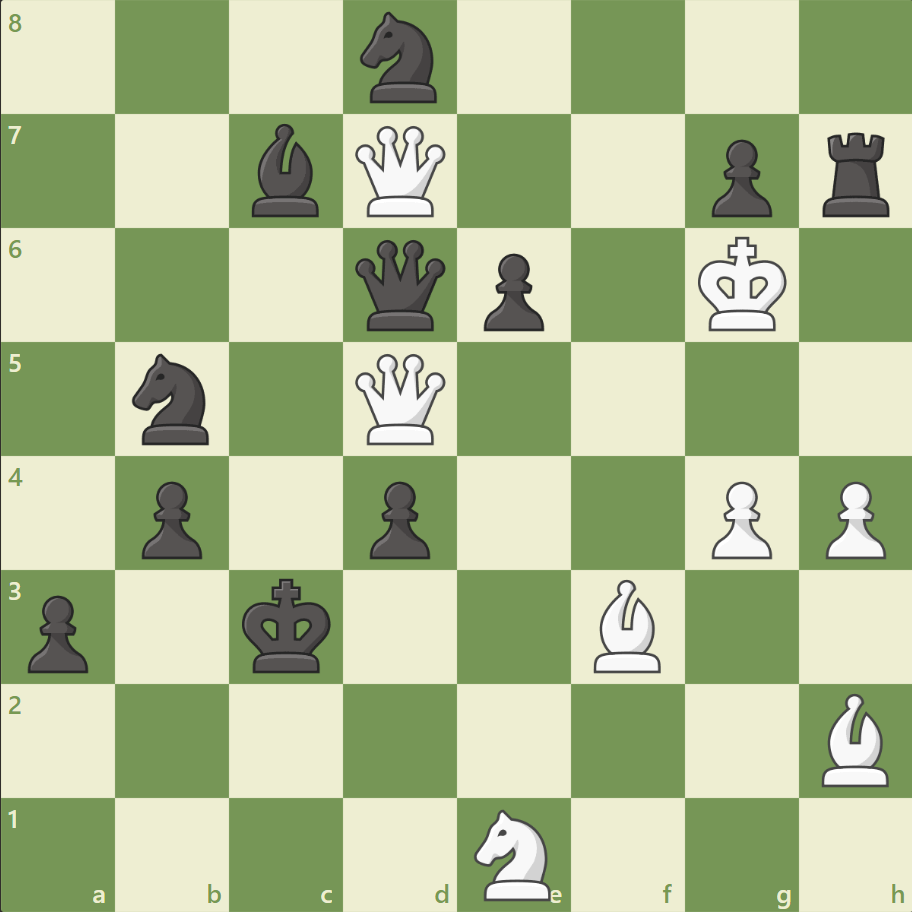B: (812, 687, 896, 790), (585, 574, 669, 676)
K: (692, 231, 792, 339)
N: (465, 802, 562, 904)
P: (701, 473, 776, 564), (815, 473, 889, 564)
Q: (351, 122, 450, 222), (351, 349, 450, 449)
b: (244, 120, 328, 222)
k: (238, 571, 338, 679)
n: (351, 7, 449, 110), (124, 348, 222, 450)
p: (701, 132, 776, 223), (474, 246, 549, 337), (133, 473, 208, 564), (20, 586, 95, 677), (361, 473, 435, 564)
q: (351, 236, 450, 335)
r: (814, 125, 897, 222)
